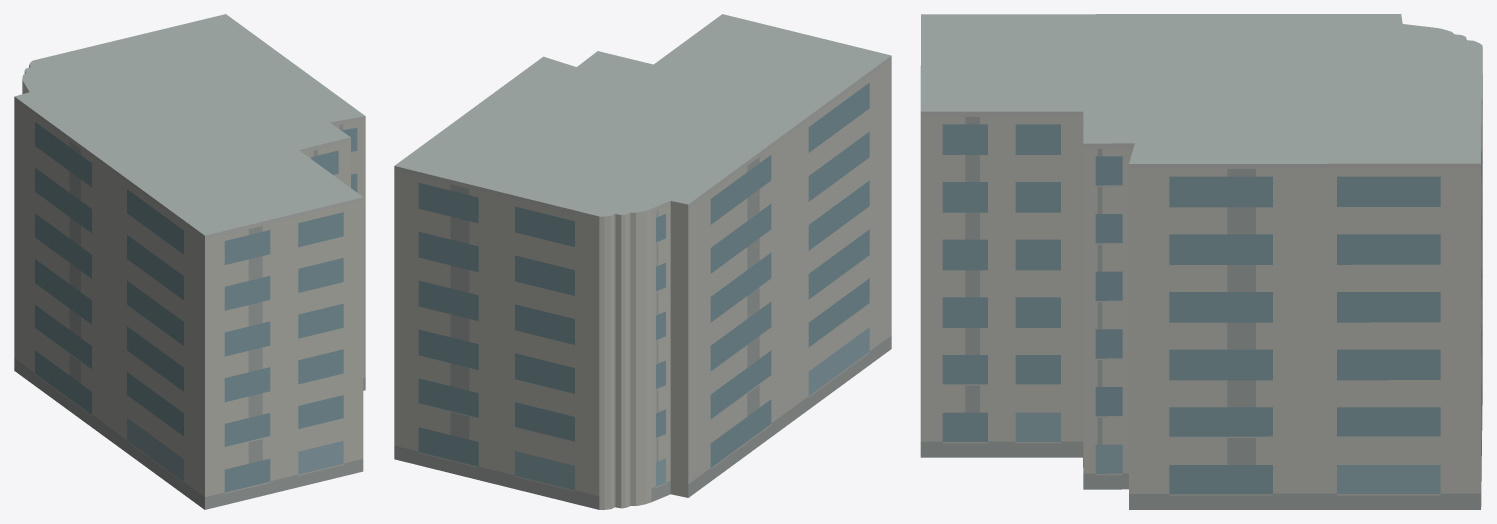
The model's file is survey-upis-33032186.glb.
3 views of the same model, side by side, from view 1: azimuth 30°, elevation 25°; view 2: azimuth 150°, elevation 25°; view 3: azimuth 270°, elevation 25° (orthographic). The views are drawn at different scales.
Parts seen in each view (by area): view 1: survey-upis-33032186.tmp; view 2: survey-upis-33032186.tmp; view 3: survey-upis-33032186.tmp.
Boxes of the visible parts, x1,y1,x2,y2 form: survey-upis-33032186.tmp: [14, 14, 365, 509]; survey-upis-33032186.tmp: [394, 14, 891, 509]; survey-upis-33032186.tmp: [920, 14, 1482, 509].
Size of the model in its own units: 14.88 by 16 by 23.57.
